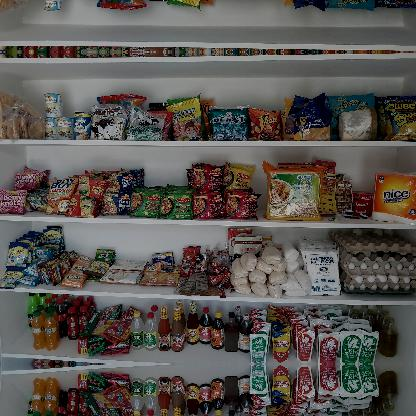Lady-s-Choice: (338, 108, 376, 140)
